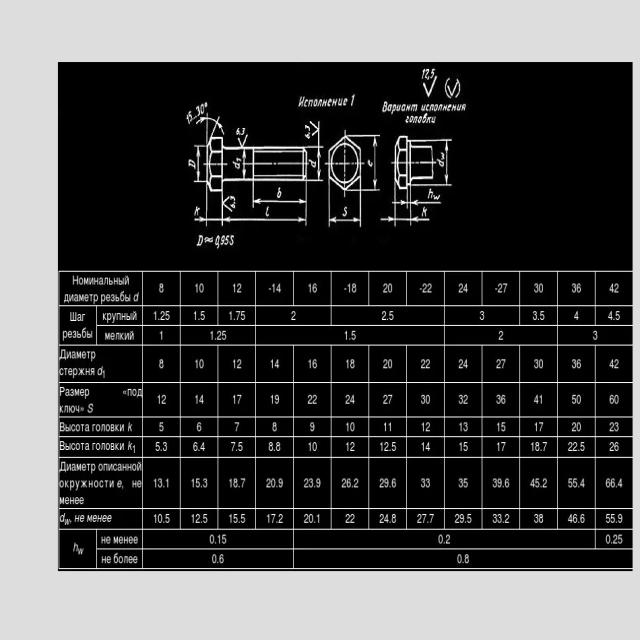marking_line: (196, 116, 225, 136), (222, 217, 306, 223), (254, 198, 306, 205), (372, 138, 379, 189), (412, 198, 441, 207), (331, 217, 361, 224), (444, 143, 449, 184), (196, 148, 201, 181), (241, 150, 246, 178), (317, 148, 321, 180), (412, 216, 430, 223), (381, 216, 395, 223), (392, 199, 406, 206), (194, 215, 205, 223)
numeric: (227, 473, 250, 492), (299, 475, 324, 492), (265, 474, 286, 494), (341, 473, 363, 492), (151, 472, 172, 491), (490, 475, 511, 494), (149, 308, 176, 322), (204, 327, 226, 344), (604, 510, 627, 526), (453, 511, 476, 527), (190, 511, 214, 526), (414, 510, 435, 527), (375, 441, 400, 455), (208, 531, 231, 546), (603, 476, 626, 491), (531, 475, 550, 493), (264, 513, 288, 527), (378, 308, 399, 324), (304, 439, 323, 456), (566, 440, 589, 454), (154, 280, 170, 300), (214, 234, 236, 248), (227, 511, 249, 525), (434, 533, 456, 547), (606, 308, 625, 324), (194, 390, 209, 410), (378, 511, 398, 526), (565, 475, 586, 489), (229, 438, 247, 454), (376, 476, 398, 489), (266, 439, 285, 454), (191, 476, 211, 490), (567, 514, 590, 526), (227, 309, 248, 322), (492, 281, 509, 297), (532, 438, 549, 454), (457, 418, 473, 435), (532, 357, 548, 374), (379, 356, 396, 372), (304, 512, 322, 527), (305, 280, 319, 299), (415, 281, 434, 295), (492, 514, 512, 527), (607, 392, 623, 408), (192, 357, 207, 374), (455, 553, 472, 568), (494, 420, 511, 435), (569, 353, 583, 371), (529, 310, 548, 323), (571, 282, 587, 297), (306, 391, 321, 407), (344, 392, 359, 408), (418, 392, 434, 407), (266, 282, 283, 296), (606, 532, 625, 544), (380, 282, 395, 297), (607, 358, 622, 373), (306, 357, 321, 372), (494, 438, 509, 453), (494, 358, 509, 373), (608, 418, 622, 434), (380, 420, 394, 436), (191, 309, 208, 322), (342, 330, 359, 343), (568, 392, 585, 405), (455, 357, 472, 370), (194, 280, 208, 295), (456, 476, 470, 491), (380, 393, 394, 408), (456, 393, 470, 408), (419, 357, 433, 372), (343, 284, 362, 295), (455, 281, 471, 294), (154, 441, 171, 453), (191, 442, 208, 454), (342, 421, 359, 433), (529, 513, 546, 525), (153, 513, 171, 524), (231, 282, 245, 296), (607, 439, 621, 453), (269, 394, 283, 408), (457, 439, 471, 453), (531, 281, 544, 296), (268, 358, 281, 373), (532, 392, 545, 407), (209, 553, 225, 565), (607, 281, 623, 293), (343, 513, 357, 526), (195, 103, 207, 118), (420, 67, 435, 79), (231, 355, 243, 370), (419, 476, 431, 491), (419, 422, 434, 434), (232, 393, 245, 406), (571, 420, 584, 433), (343, 441, 357, 453), (475, 309, 487, 323), (421, 441, 432, 456), (345, 358, 357, 371), (534, 422, 546, 435), (493, 394, 506, 406), (589, 329, 601, 342), (156, 391, 167, 405), (158, 357, 167, 374), (187, 158, 198, 171), (193, 422, 204, 435), (289, 310, 300, 323), (304, 122, 311, 142), (270, 419, 280, 433), (186, 109, 194, 126), (308, 421, 318, 434), (496, 329, 506, 342), (349, 94, 357, 109), (571, 309, 581, 321), (230, 193, 237, 210), (232, 419, 241, 432), (236, 127, 247, 137), (308, 158, 317, 170), (275, 187, 283, 200), (196, 235, 204, 248), (159, 330, 167, 342), (159, 421, 165, 435), (265, 206, 271, 219), (193, 207, 201, 216), (342, 206, 348, 218), (367, 156, 373, 168)
special_symbol: (423, 75, 439, 97), (447, 80, 459, 97), (223, 194, 232, 210), (310, 121, 318, 136), (203, 236, 214, 245)
